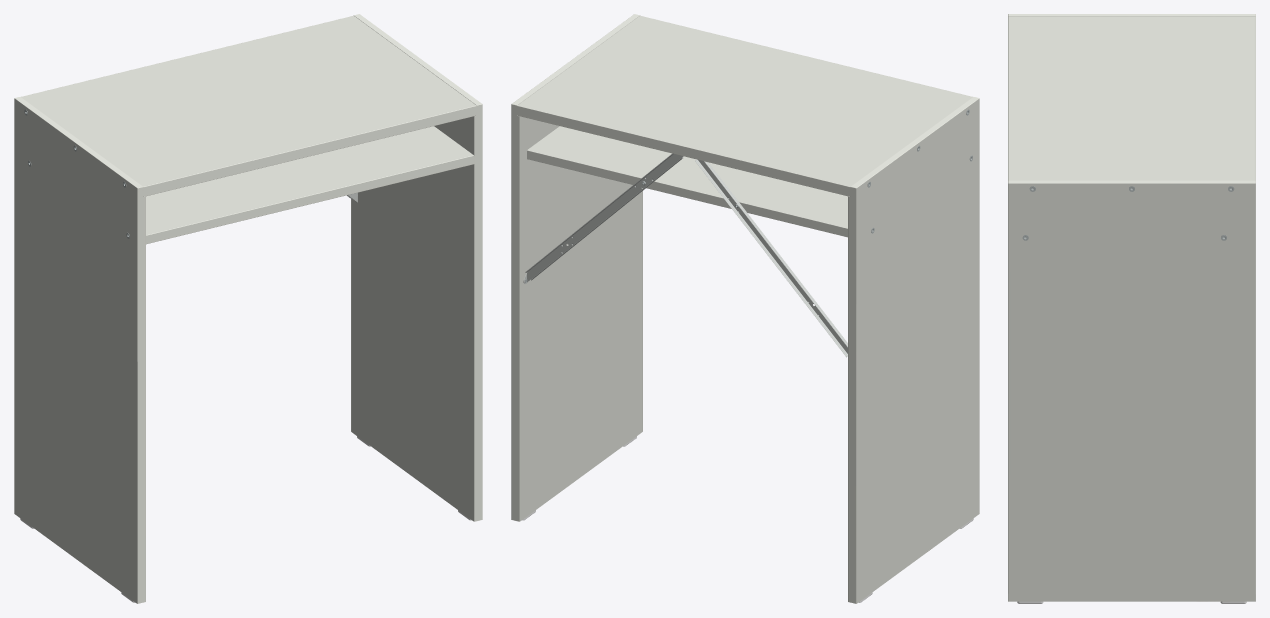
The picture shows the model from 3 angles, left to right: view 1: azimuth 30°, elevation 25°; view 2: azimuth 150°, elevation 25°; view 3: azimuth 270°, elevation 25°; orthographic projection.
Visible parts, largest first — view 1: world; view 2: world; view 3: world.
Boxes of the visible parts, left/top/right/bottom form: world: left=14, top=14, right=482, bottom=603; world: left=511, top=14, right=979, bottom=603; world: left=1008, top=14, right=1255, bottom=603.
Size of the model in its own units: 0.65 by 0.75 by 0.4.
Materials: 1 (1 with a texture image).
